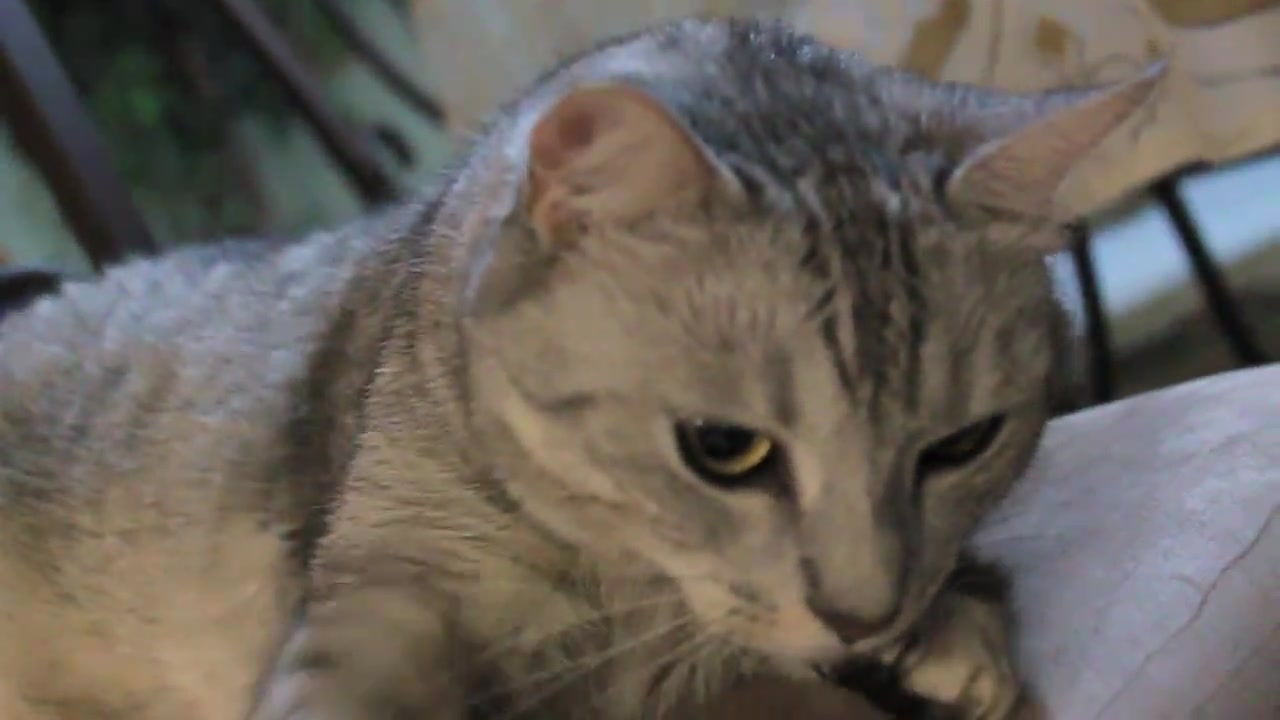cat: (1, 11, 1184, 720)
